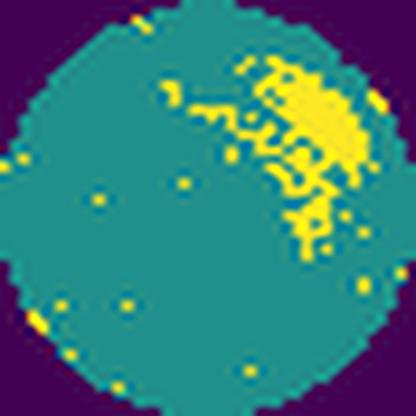Loc: (182, 55, 382, 262)
